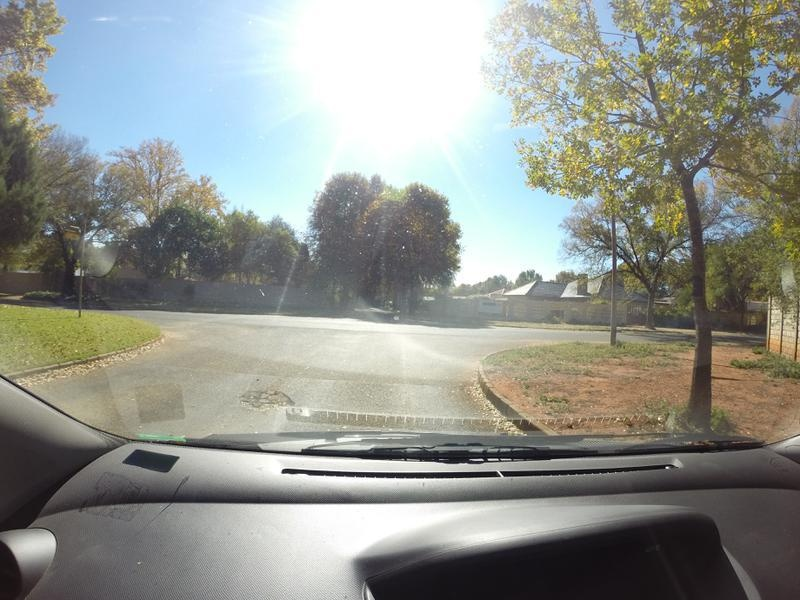pothole: (240, 384, 287, 410)
